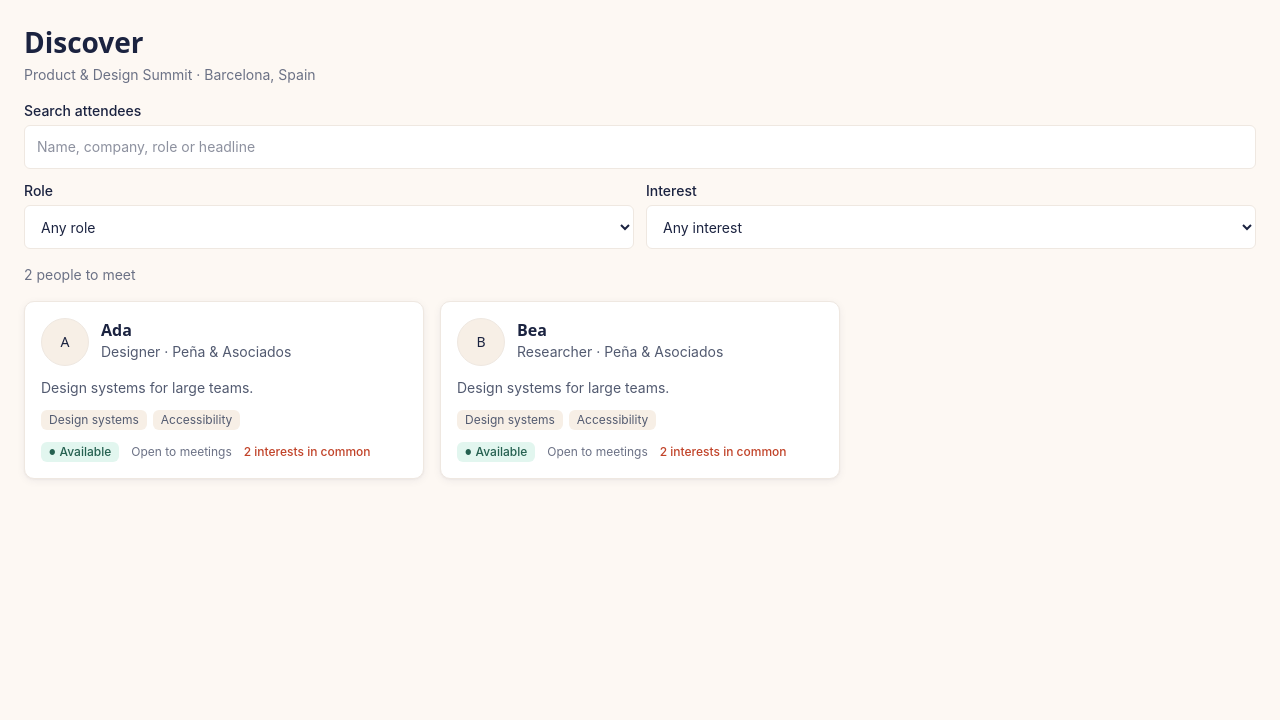
Discover: the filter options survive being used › still offers the other roles after one has been selected
This screenshot has width=1280, height=720.
Expected: the link "Ada" is shown, 101,319 -> 132,341
Select "Designer" in the dropdown labelled "Role" at point(329, 227), box 24,205 -> 634,249
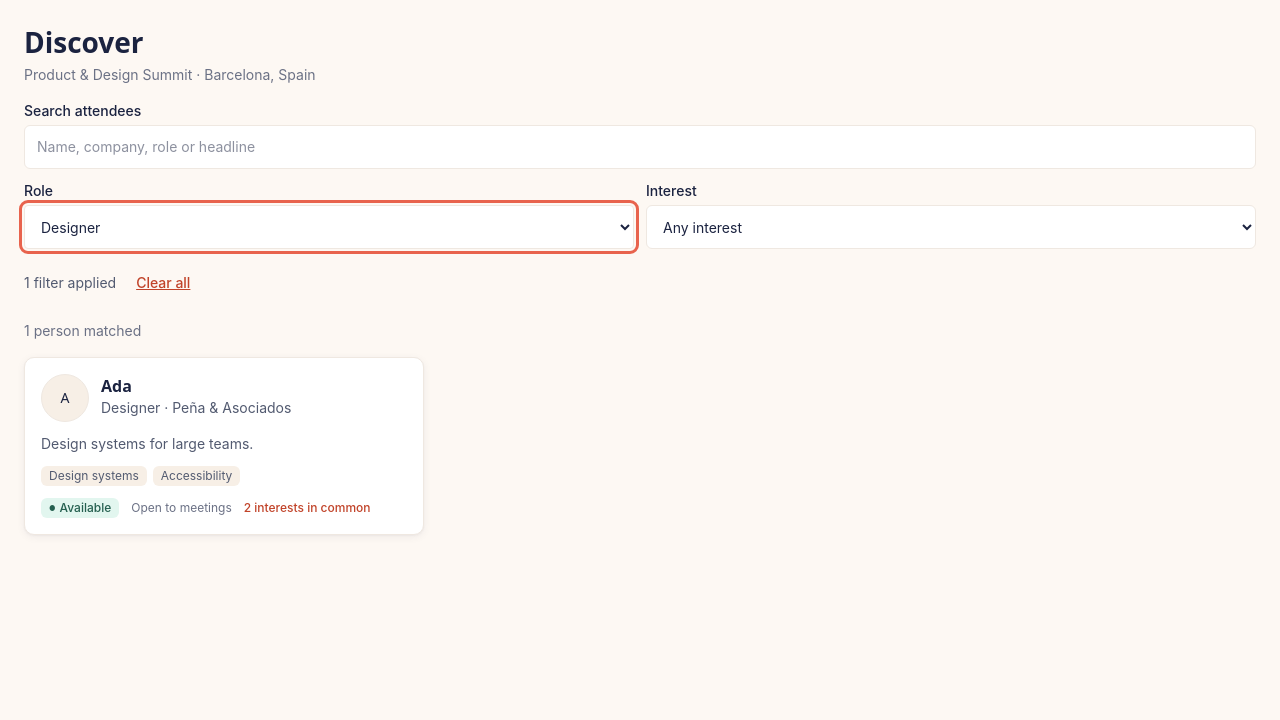
Expected: the link "Bea" is gone
